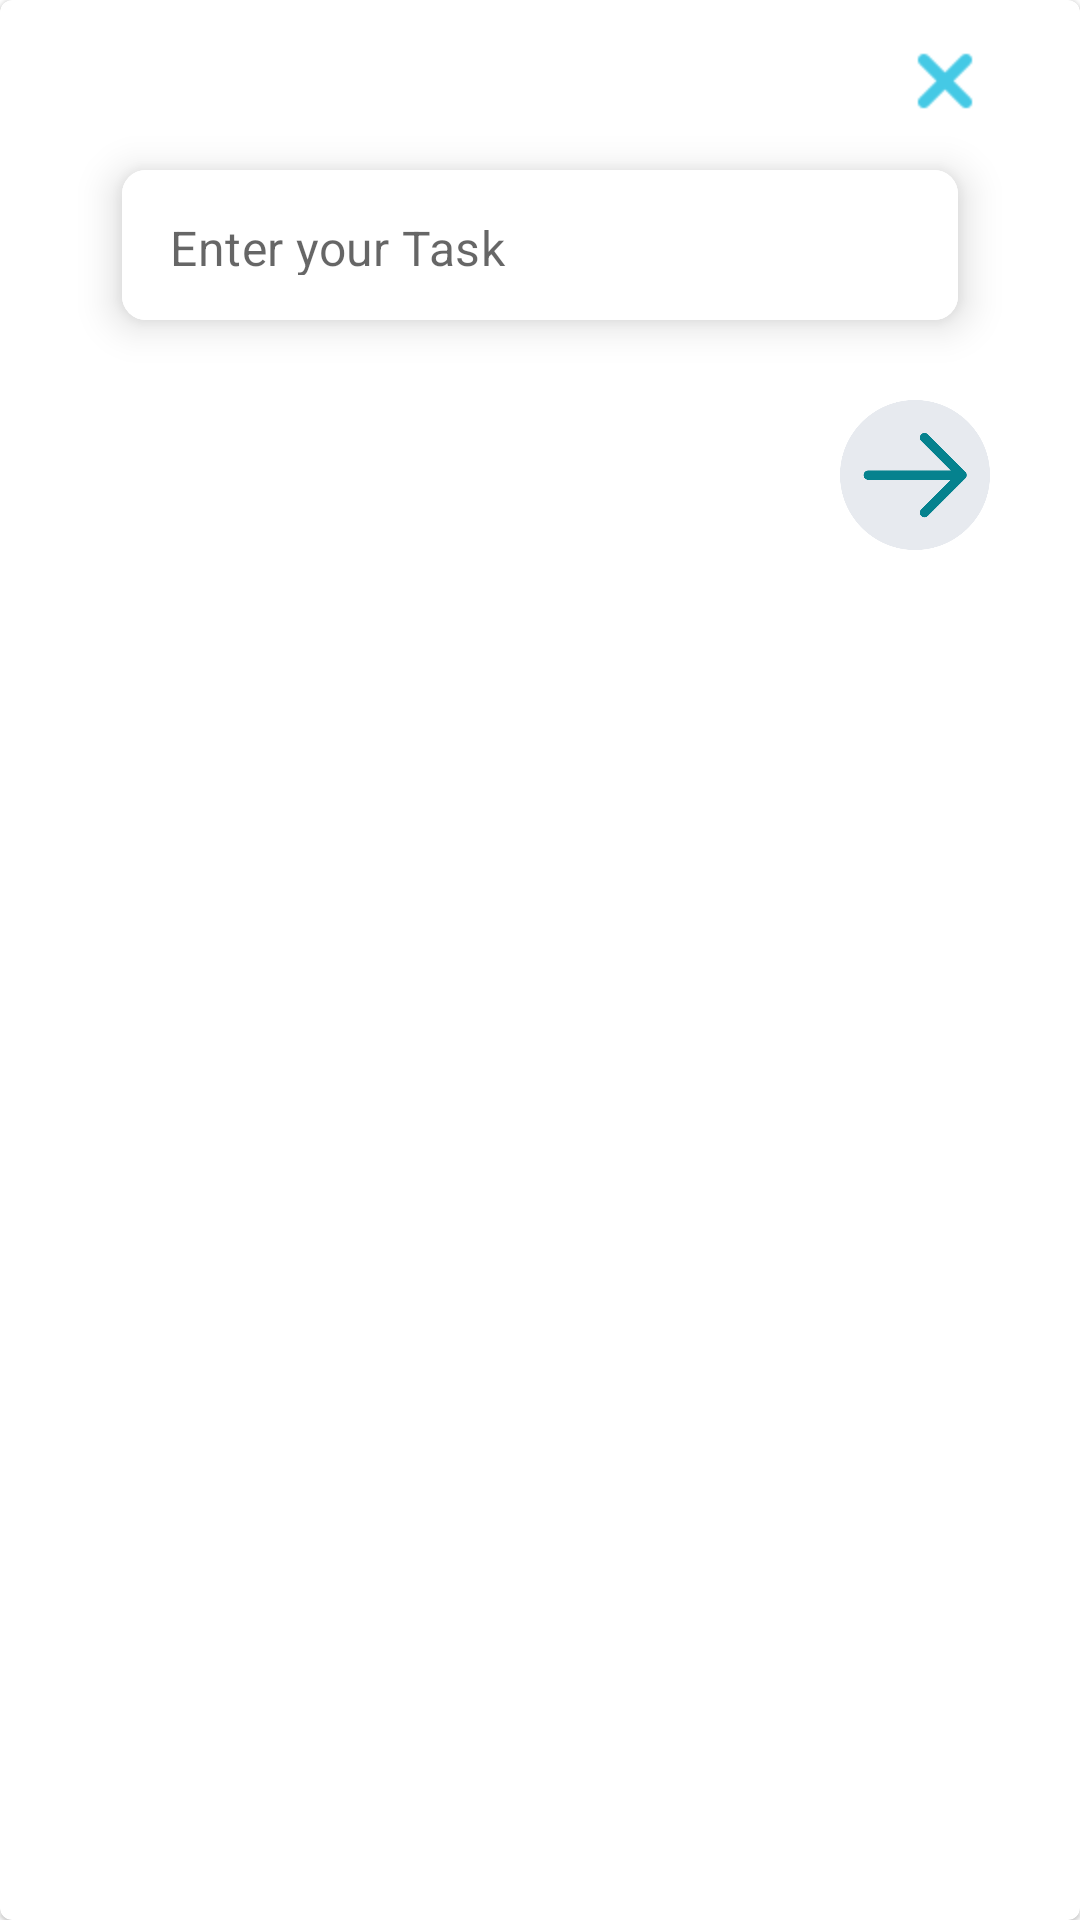

Where to tap for icons on this 1080 x 1920 app screen, as (x=x, y=y):
close: (x=945, y=81)
right: (x=915, y=475)
